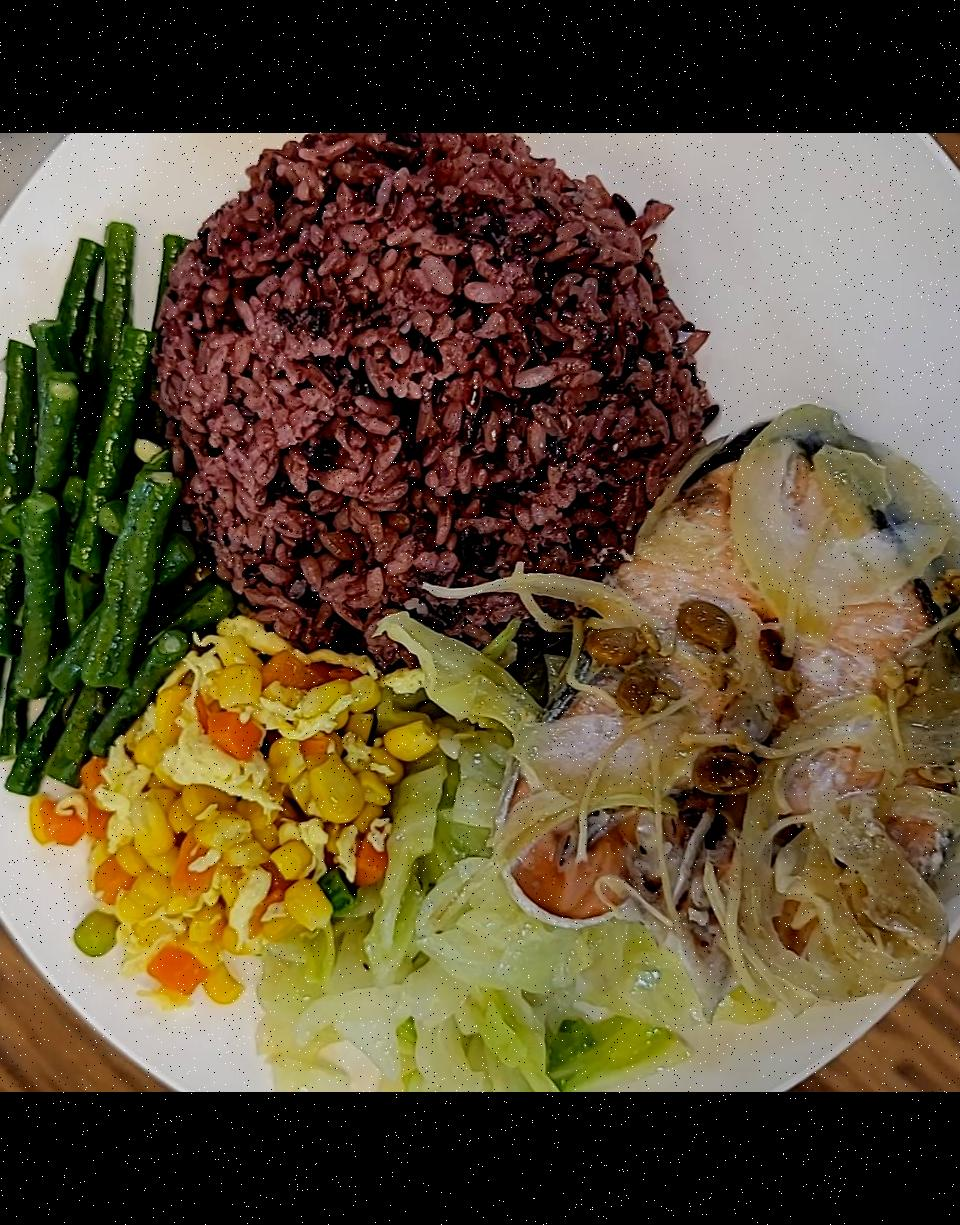plate: (0, 132, 960, 1082)
purple rice: (156, 147, 702, 649)
salmon: (494, 427, 960, 1009)
side dish: (253, 654, 646, 1092), (51, 627, 400, 1000), (0, 233, 195, 799)
